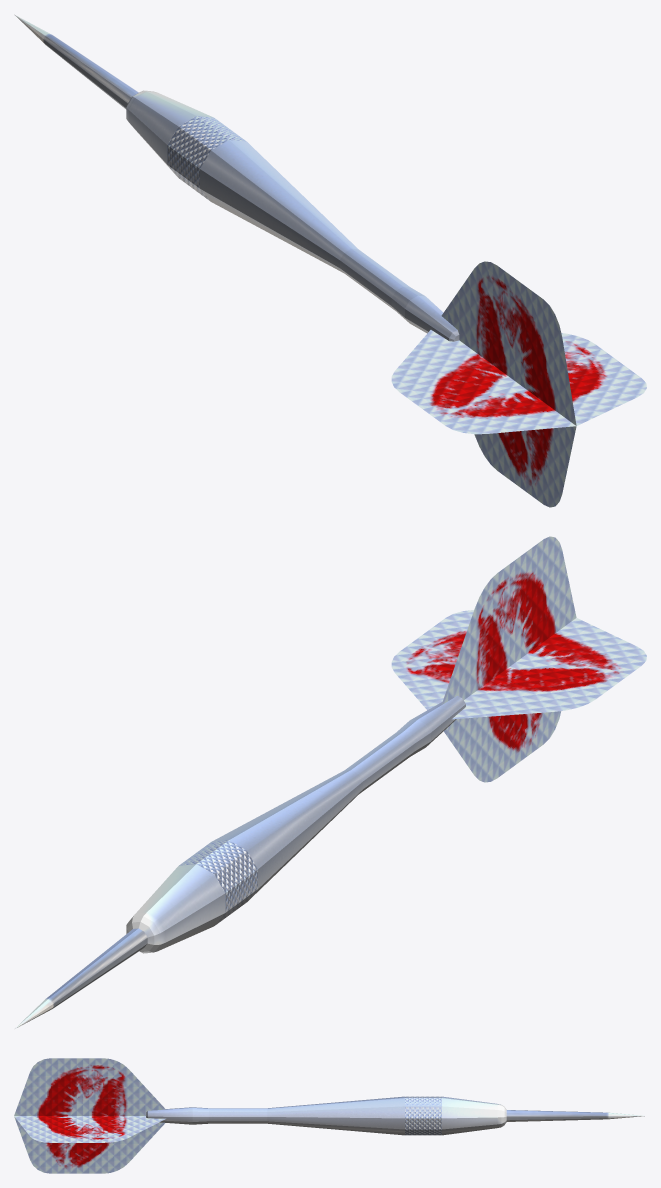
Rendered from Dart4.fbx.
The picture shows the model from 3 angles, top to bottom: view 1: azimuth 30°, elevation 25°; view 2: azimuth 150°, elevation 25°; view 3: azimuth 270°, elevation 25°; orthographic projection. The views are drawn at different scales.
Parts seen in each view (by area): view 1: Dart4; view 2: Dart4; view 3: Dart4.
Boxes of the visible parts, left/top/right/bottom form: Dart4: left=14, top=14, right=646, bottom=507; Dart4: left=14, top=536, right=646, bottom=1029; Dart4: left=14, top=1058, right=644, bottom=1173.
Size of the model in its own units: 2.54 by 2.54 by 12.62.
